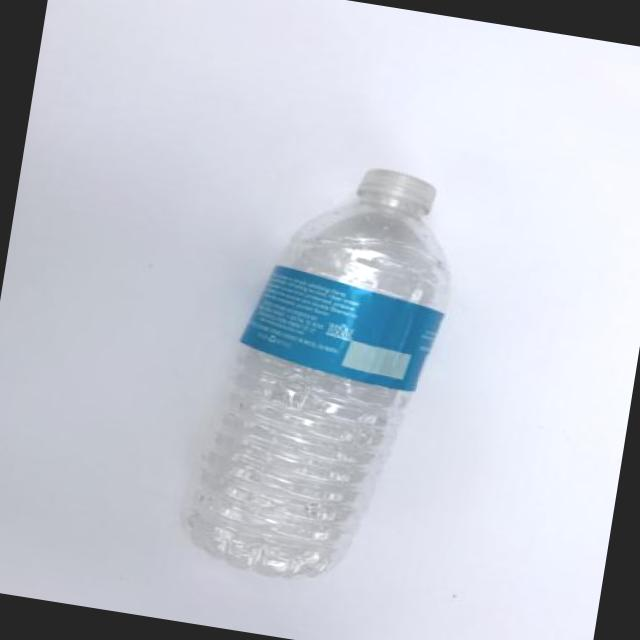plastic: (147, 152, 468, 606)
